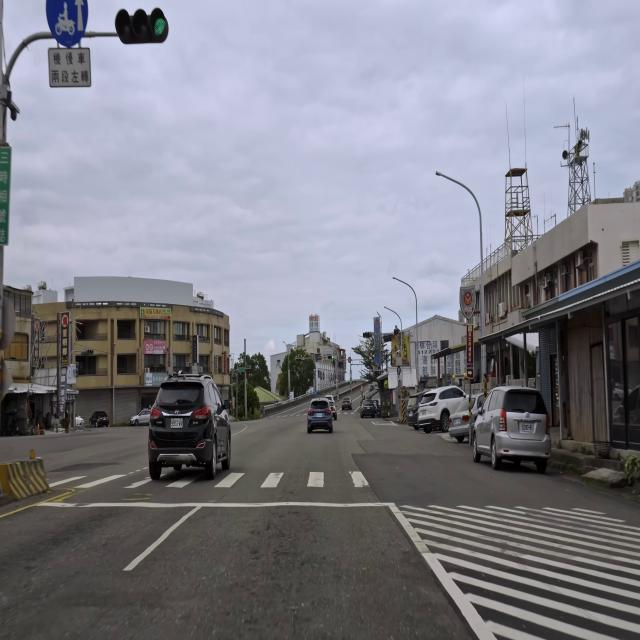green light: (112, 7, 167, 45)
